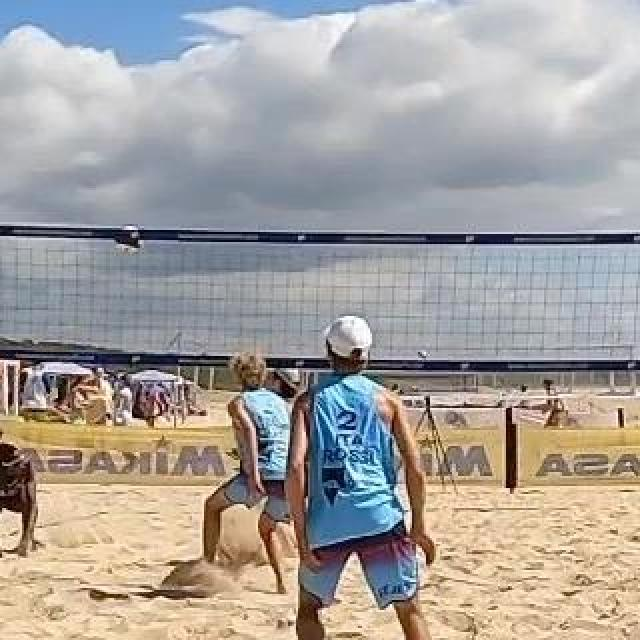volleyball: (113, 226, 141, 256)
